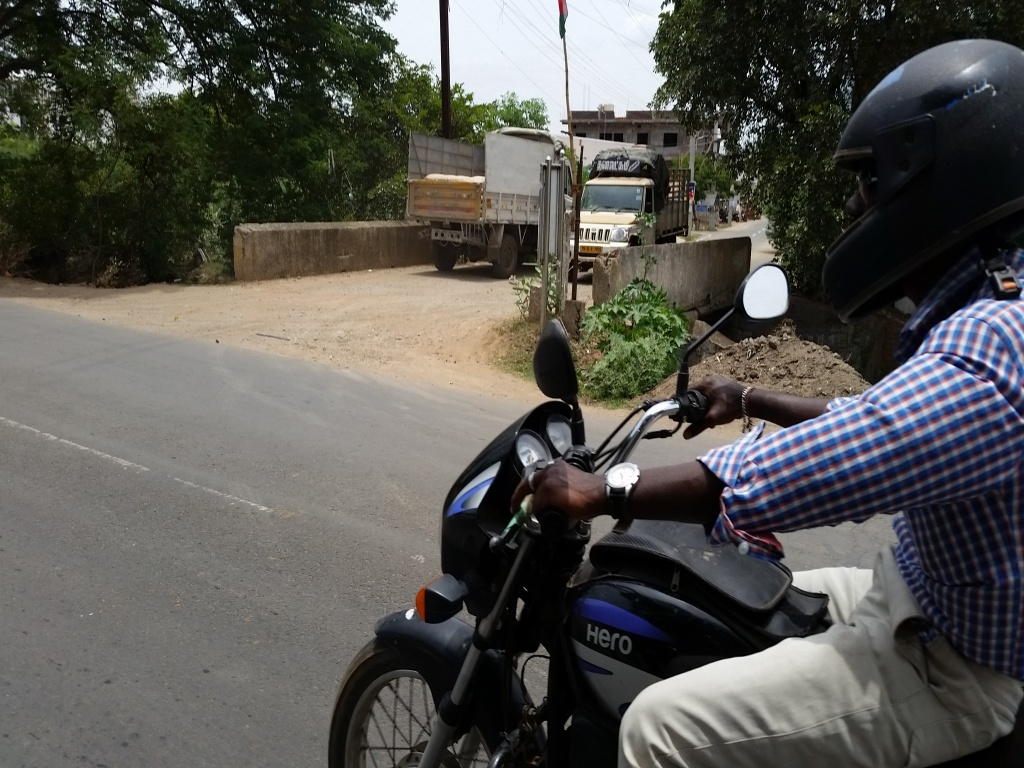biker: (316, 1, 1024, 768)
helmet: (801, 21, 1024, 339)
